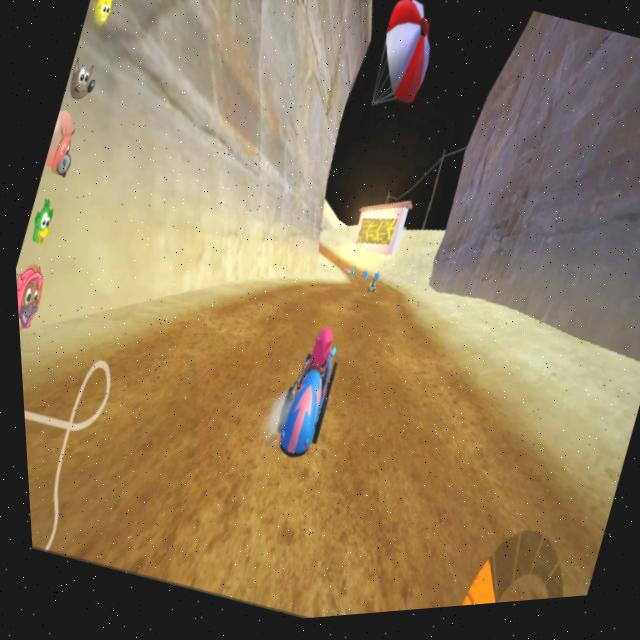bonus: (355, 267, 367, 282), (345, 265, 355, 281)
player_kart: (252, 319, 355, 489)
track: (308, 348, 519, 549), (143, 295, 308, 528), (295, 278, 409, 366)
